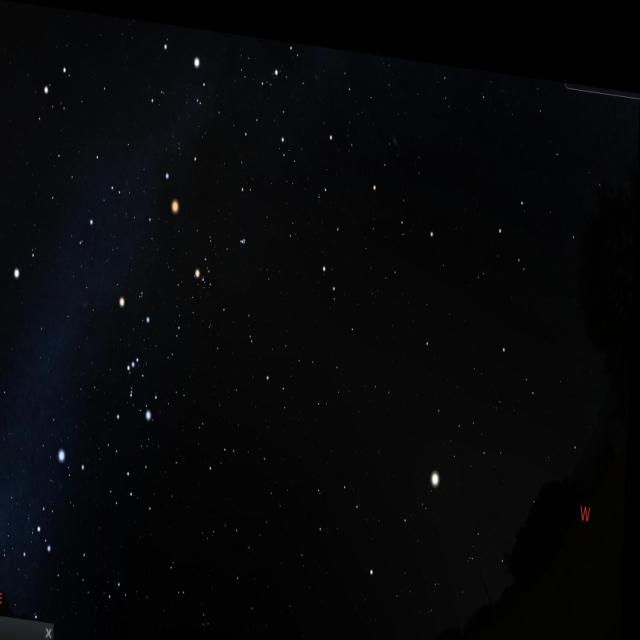canis_major: (38, 434, 99, 568)
canis_minor: (8, 238, 45, 296)
gemini: (33, 41, 128, 215)
orion: (104, 284, 163, 434)
pleiades: (238, 219, 254, 239)
taurus: (189, 184, 263, 316)
